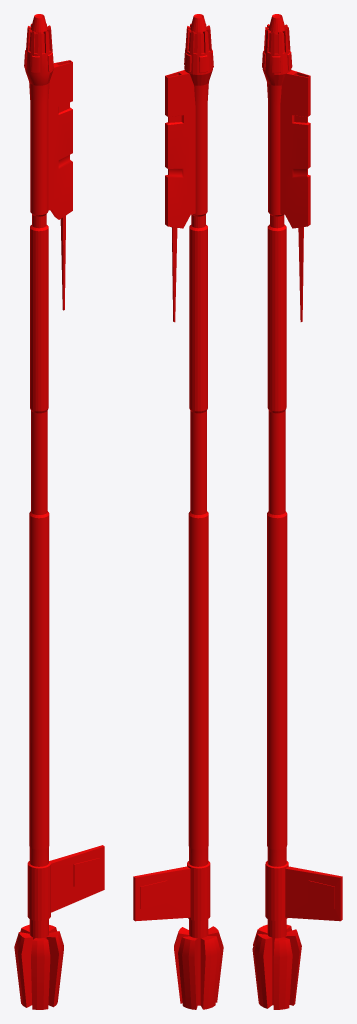
The model's file is propOne.obj.
3 renders of one model, left to right at view 1: azimuth 30°, elevation 25°; view 2: azimuth 210°, elevation 25°; view 3: azimuth 330°, elevation 25°, orthographic.
Parts seen in each view (by area): view 1: polySurface14, pCube2, pCube1, polySurface8; view 2: polySurface14, pCube2, pCube1, polySurface8; view 3: polySurface14, pCube2, pCube1, polySurface8.
Part boxes in pixels (x1,y1,x2,y2): polySurface14: [14, 14, 63, 1009]; pCube2: [48, 60, 72, 310]; pCube1: [50, 845, 104, 912]; polySurface8: [24, 50, 53, 72]; polySurface14: [174, 14, 223, 1009]; pCube2: [165, 70, 195, 322]; pCube1: [133, 866, 190, 921]; polySurface8: [184, 50, 213, 72]; polySurface14: [252, 14, 301, 1009]; pCube2: [280, 70, 310, 321]; pCube1: [285, 866, 342, 921]; polySurface8: [262, 51, 292, 72].
Size of the model in its own units: 1.56 by 17.08 by 0.7841.
